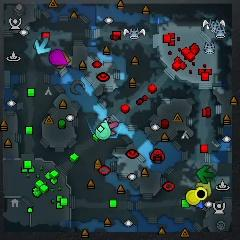p1: (196, 200, 204, 210)
p2: (95, 120, 111, 140)
p3: (49, 49, 67, 66)
p4: (186, 189, 200, 206)
p4Clone: (195, 187, 207, 200)
x1: (106, 117, 119, 135)
x2: (196, 182, 212, 197)
x3: (34, 38, 52, 54)
x4: (197, 164, 215, 184)
x5: (60, 50, 71, 67)
